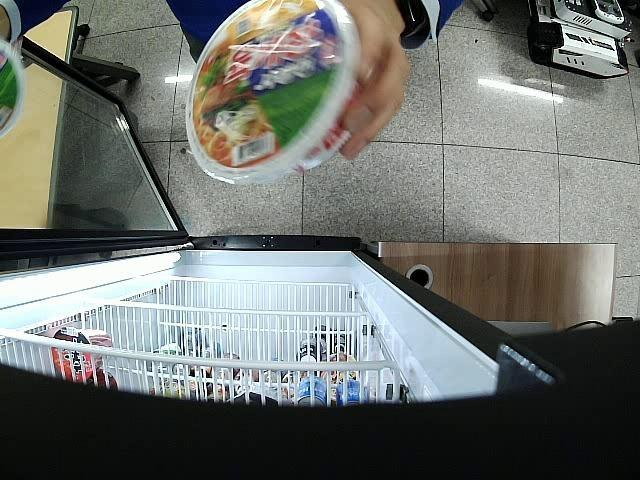09_yukGaeJang: (186, 0, 360, 184)
